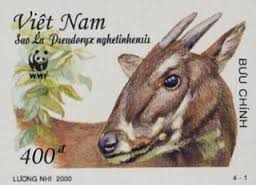sao_la: (95, 9, 237, 168)
